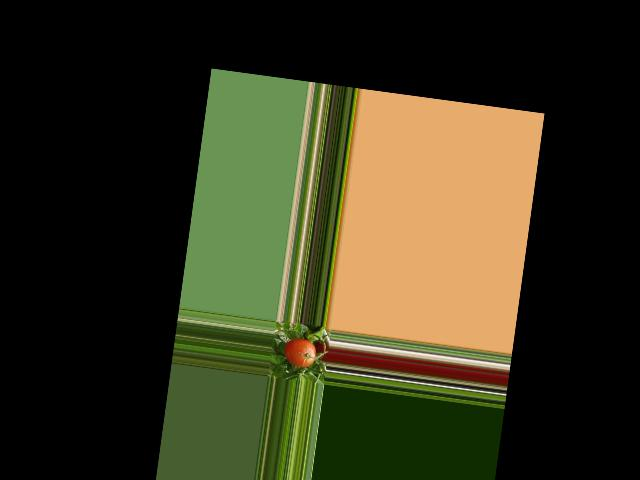tomato: (283, 337, 317, 368)
